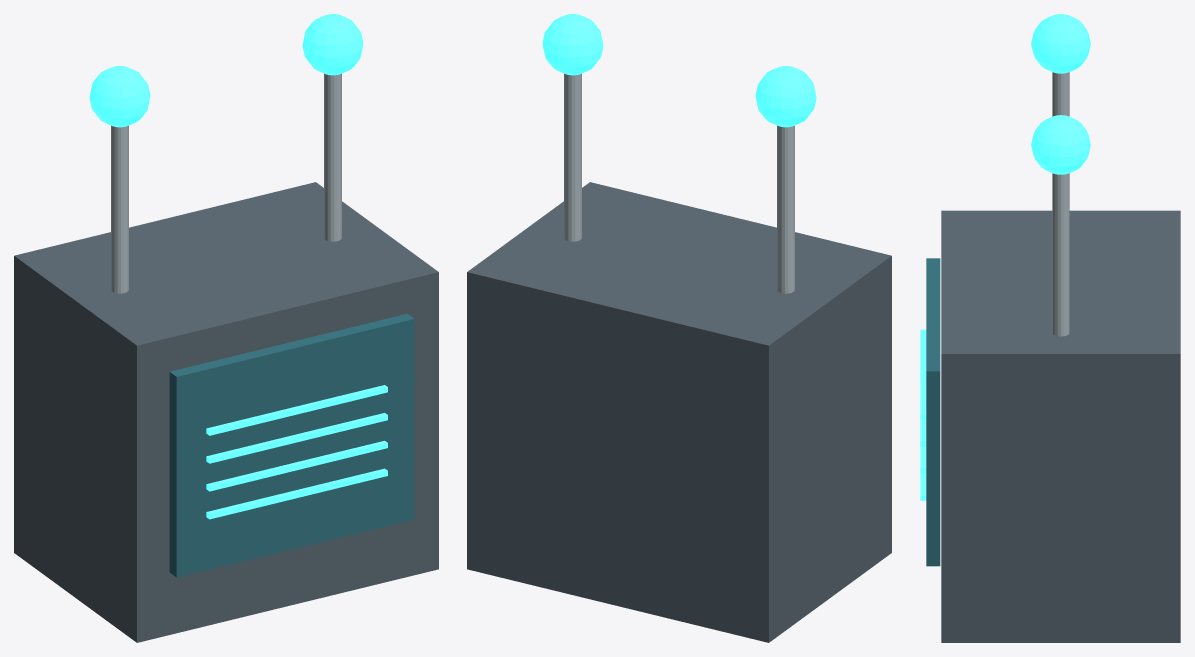
File: network-defense.glb
The picture shows the model from 3 angles, left to right: view 1: azimuth 30°, elevation 25°; view 2: azimuth 150°, elevation 25°; view 3: azimuth 270°, elevation 25°; orthographic projection. The views are drawn at different scales.
Visible parts, largest first — view 1: network appliance, glowing status panel, network antenna, network antenna.001, antenna node.001, antenna node, telemetry line.003, telemetry line, telemetry line.001, telemetry line.002; view 2: network appliance, network antenna, network antenna.001, antenna node.001, antenna node; view 3: network appliance, glowing status panel, network antenna.001, antenna node, antenna node.001, network antenna, telemetry line.003.
Part boxes in pixels (left/top/right/bottom): network appliance: left=14, top=182, right=438, bottom=642; glowing status panel: left=169, top=313, right=414, bottom=577; network antenna: left=111, top=125, right=128, bottom=293; network antenna.001: left=324, top=73, right=341, bottom=241; antenna node.001: left=302, top=14, right=363, bottom=75; antenna node: left=89, top=66, right=150, bottom=127; telemetry line.003: left=206, top=385, right=387, bottom=435; telemetry line: left=206, top=468, right=387, bottom=519; telemetry line.001: left=206, top=440, right=387, bottom=491; telemetry line.002: left=206, top=413, right=387, bottom=463; network appliance: left=467, top=182, right=891, bottom=642; network antenna: left=777, top=125, right=794, bottom=293; network antenna.001: left=564, top=73, right=581, bottom=241; antenna node.001: left=542, top=14, right=603, bottom=75; antenna node: left=755, top=66, right=816, bottom=127; network appliance: left=941, top=210, right=1180, bottom=642; glowing status panel: left=926, top=258, right=940, bottom=566; network antenna.001: left=1052, top=173, right=1069, bottom=336; antenna node: left=1031, top=14, right=1090, bottom=73; antenna node.001: left=1031, top=115, right=1090, bottom=174; network antenna: left=1052, top=72, right=1069, bottom=116; telemetry line.003: left=920, top=329, right=926, bottom=419.
Size of the model in its own units: 0.85 by 1.39 by 0.6525.
